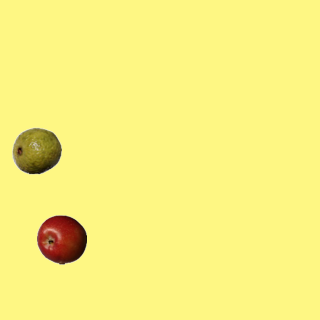Apple Braeburn: (36, 214, 86, 264)
Guava: (11, 125, 61, 175)
